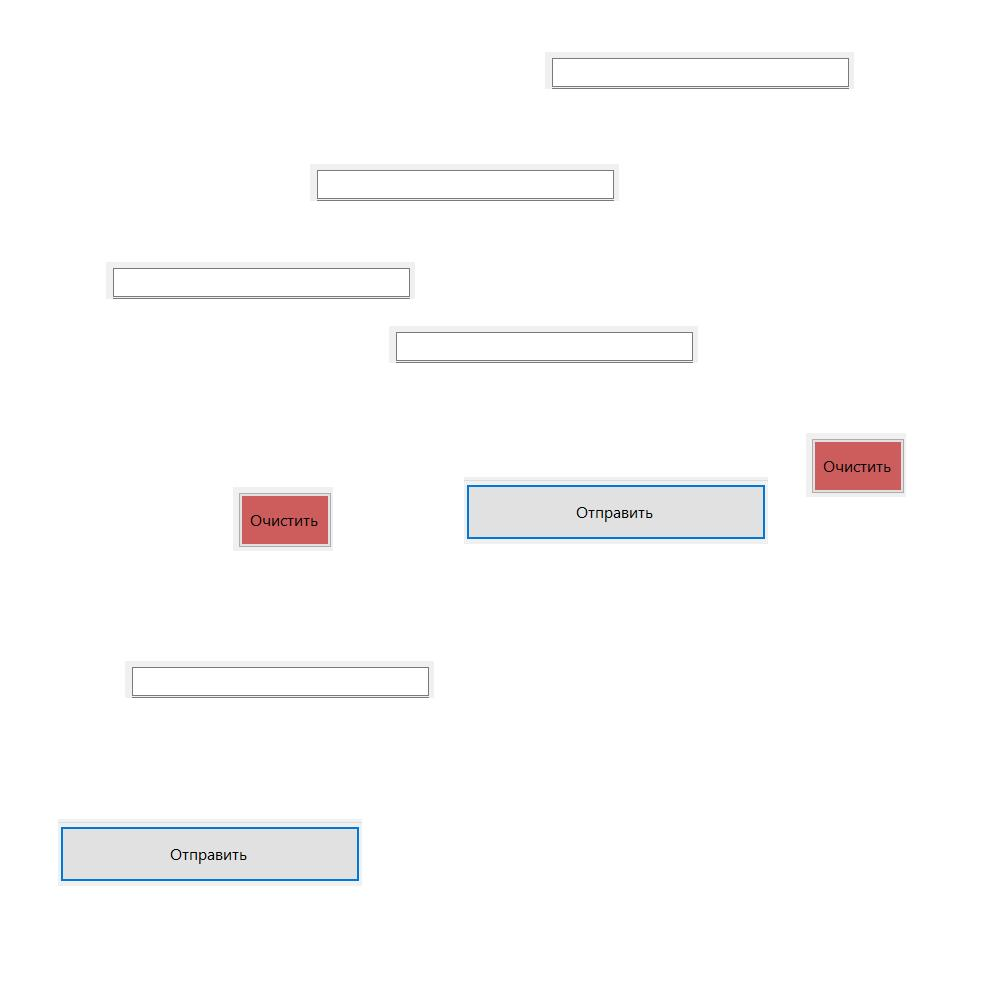Button: (464, 477, 768, 544), (58, 819, 362, 886), (233, 487, 333, 551), (806, 433, 906, 497)
EditText-: (545, 52, 854, 89), (125, 661, 434, 698), (310, 164, 619, 201), (389, 326, 698, 363), (106, 262, 415, 299)
